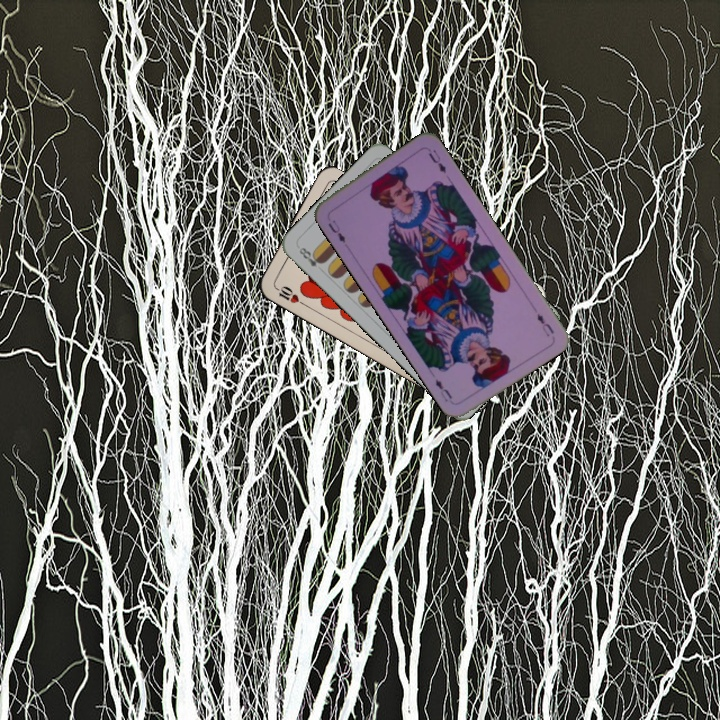E8: (294, 242, 326, 270)
EU: (533, 309, 557, 339), (324, 216, 348, 245)
H10: (271, 282, 308, 308)
